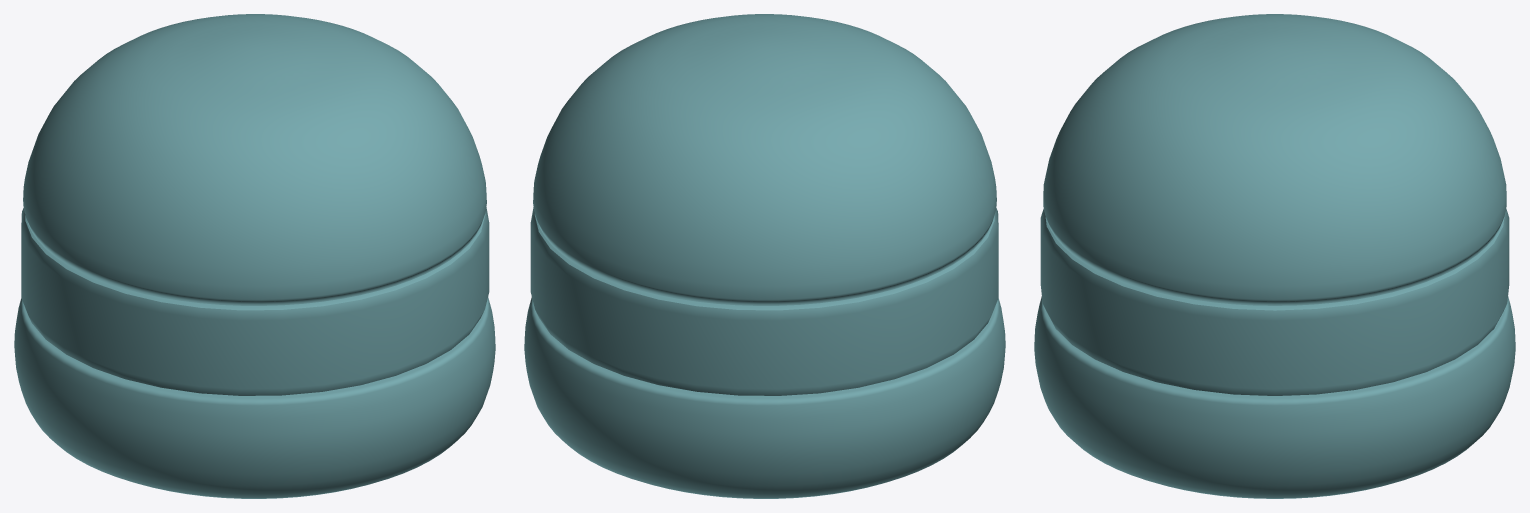
Rendered from SM_BURGER_1.fbx.
The picture shows the model from 3 angles, left to right: view 1: azimuth 30°, elevation 25°; view 2: azimuth 150°, elevation 25°; view 3: azimuth 270°, elevation 25°; orthographic projection.
Visible parts, largest first — view 1: SM_BURGER_1; view 2: SM_BURGER_1; view 3: SM_BURGER_1.
Boxes of the visible parts, <box> form: SM_BURGER_1: <box>14,14,495,498</box>; SM_BURGER_1: <box>524,14,1005,498</box>; SM_BURGER_1: <box>1034,14,1515,498</box>.
Bounding box in the file's own units: 19.2 × 16.09 × 19.18.
